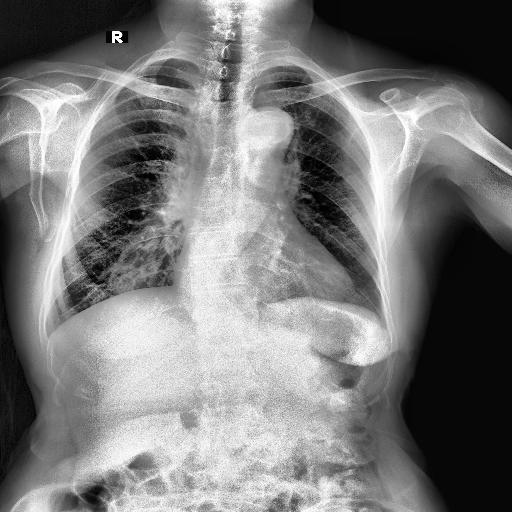0- Aortic enlargement: (238, 108, 292, 160), (248, 107, 294, 139)
11- Pleural thickening: (38, 322, 60, 350)
3- Cardiomegaly: (170, 244, 352, 308), (174, 252, 354, 304)
7- Lung Opacity: (112, 220, 186, 292)
9- Other lesion: (112, 220, 186, 292)
